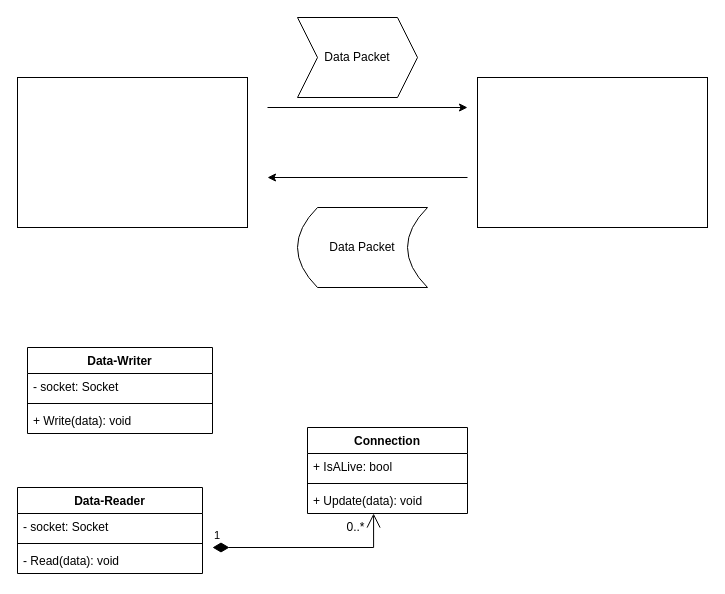
This 725x594 diagram has some shape labels left out. The shapes that lost their labels are listed below. From the top down, each one's centre as x and y in pixels, then its label:
At [132,152]: "PC1".
At [592,152]: "PC2".
